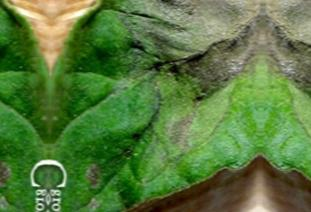Tomato leaf late blight: (47, 0, 264, 212)
